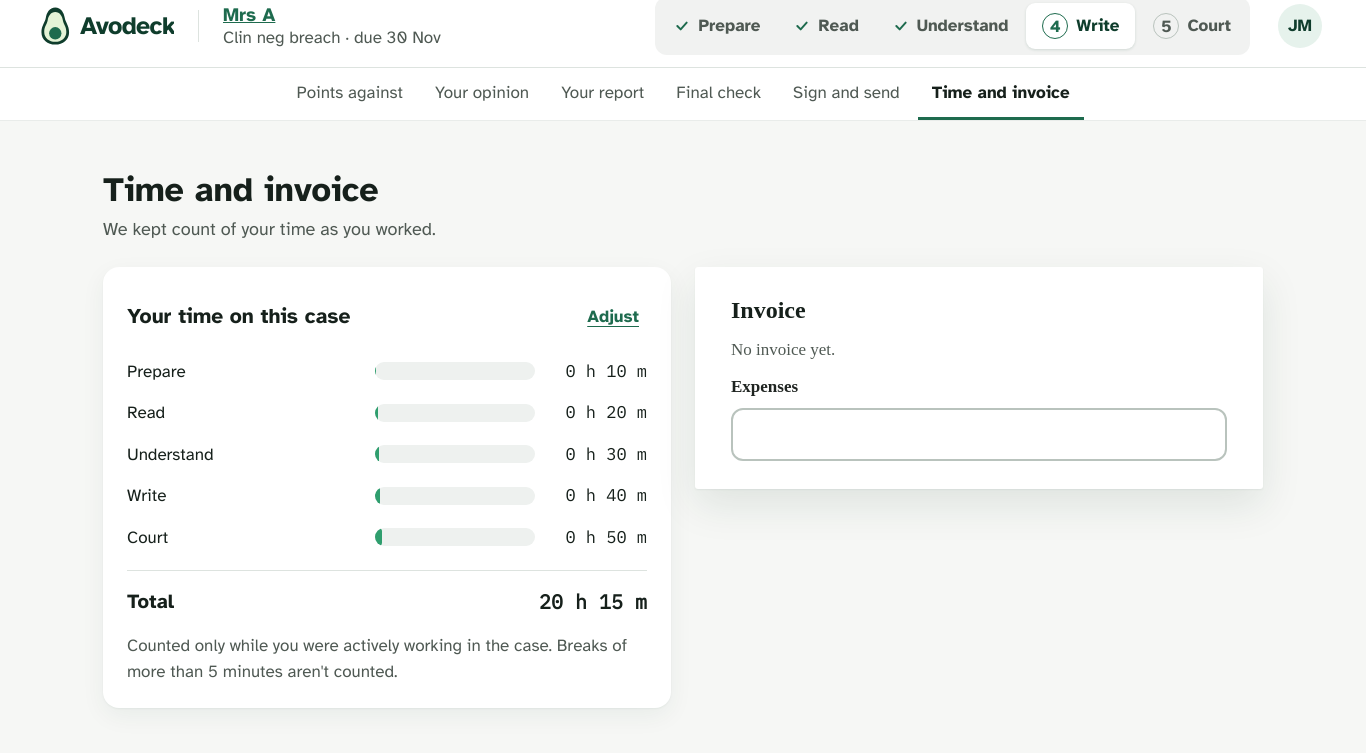
making the invoice sends the expenses and shows it as a draft with its total
expect the text "No invoice yet." is shown: met, box x1=731 y1=340 x2=835 y2=358
In the field labelled "Expenses": x=979, y=434 x1=731 y1=408 x2=1227 y2=461, type "12.50"
(page scrolled)
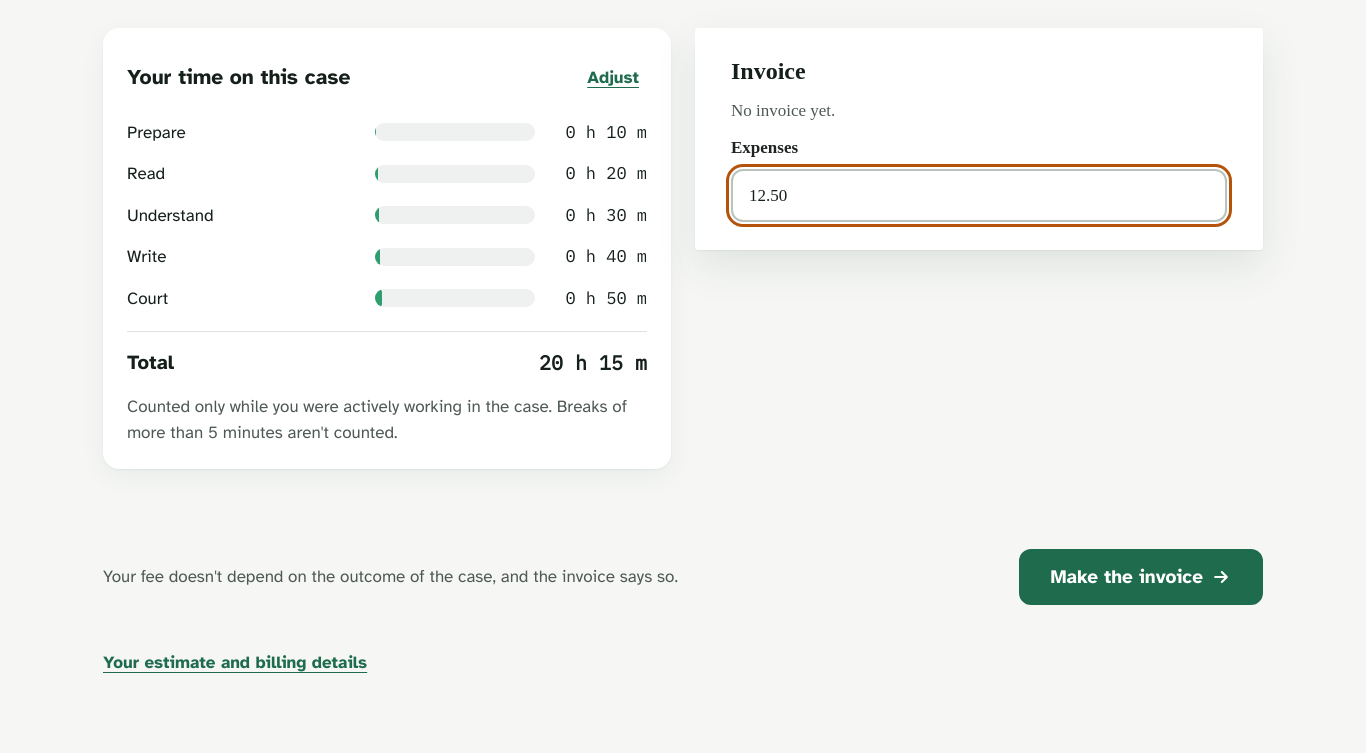
Click the button "Make the invoice": x=1141, y=577 x1=1018 y1=549 x2=1263 y2=605
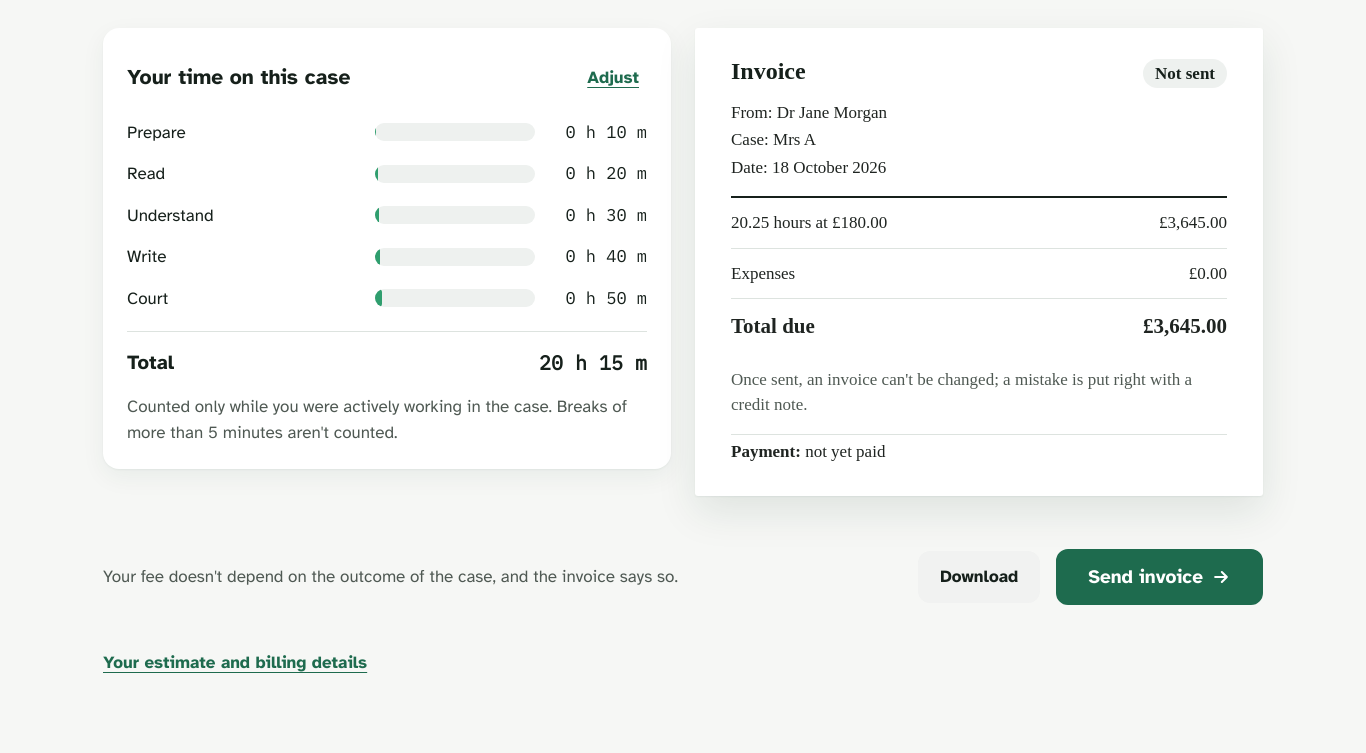
expect the text "20.25 hours at £180.00" is shown: met, box x1=731 y1=210 x2=887 y2=236
expect the text "£3,645.00" in the row of "20.25 hours at £180.00" is shown: met, box x1=1159 y1=213 x2=1227 y2=232
expect the text "Not sent" is shown: met, box x1=1143 y1=58 x2=1227 y2=88
